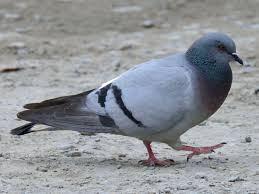pigeon: (8, 30, 246, 169)
